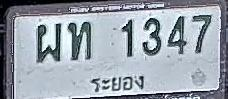1: (121, 19, 133, 57)
3: (142, 18, 161, 55)
4: (168, 15, 186, 54)
7: (192, 14, 212, 53)
A23: (68, 21, 92, 60)
A28: (36, 23, 61, 62)
RYG: (88, 74, 149, 95)
